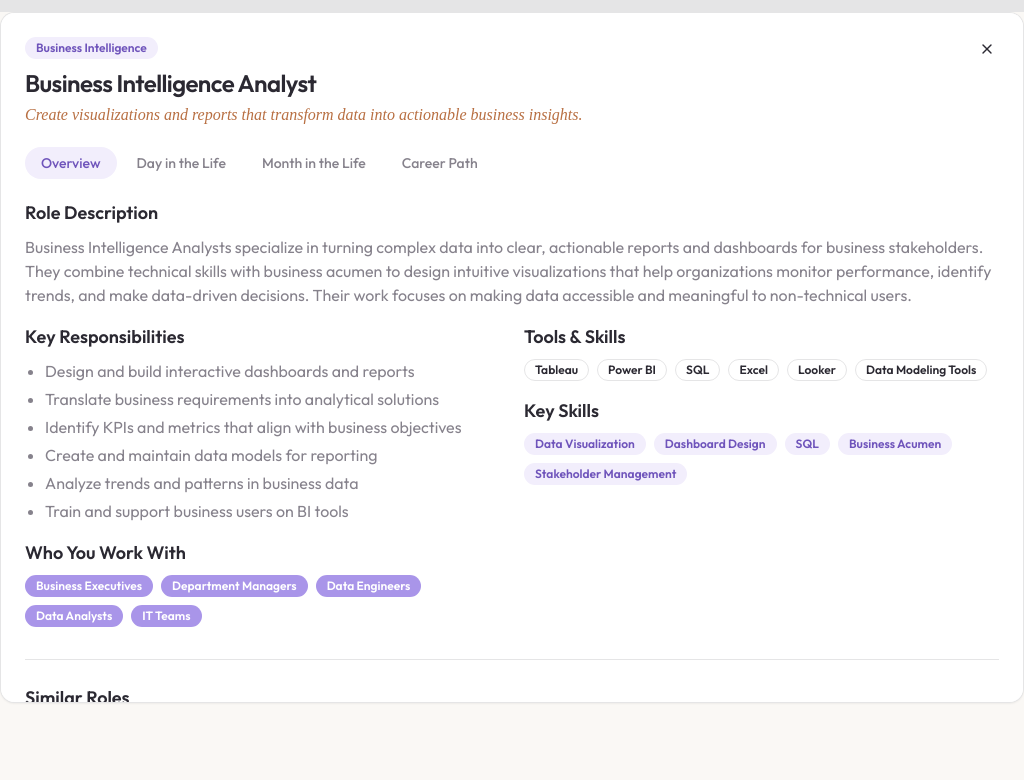
Test: CareerRoleDetails › shows the section under every tab, not only Overview
Check: the heading "Similar Roles" is shown, box [25,686,130,703]
What coordinates should you click on to do the following:
click the tab "Career Path"
I would click on:
 (440, 163)
Its box is [386,147,494,179].
(page scrolled)
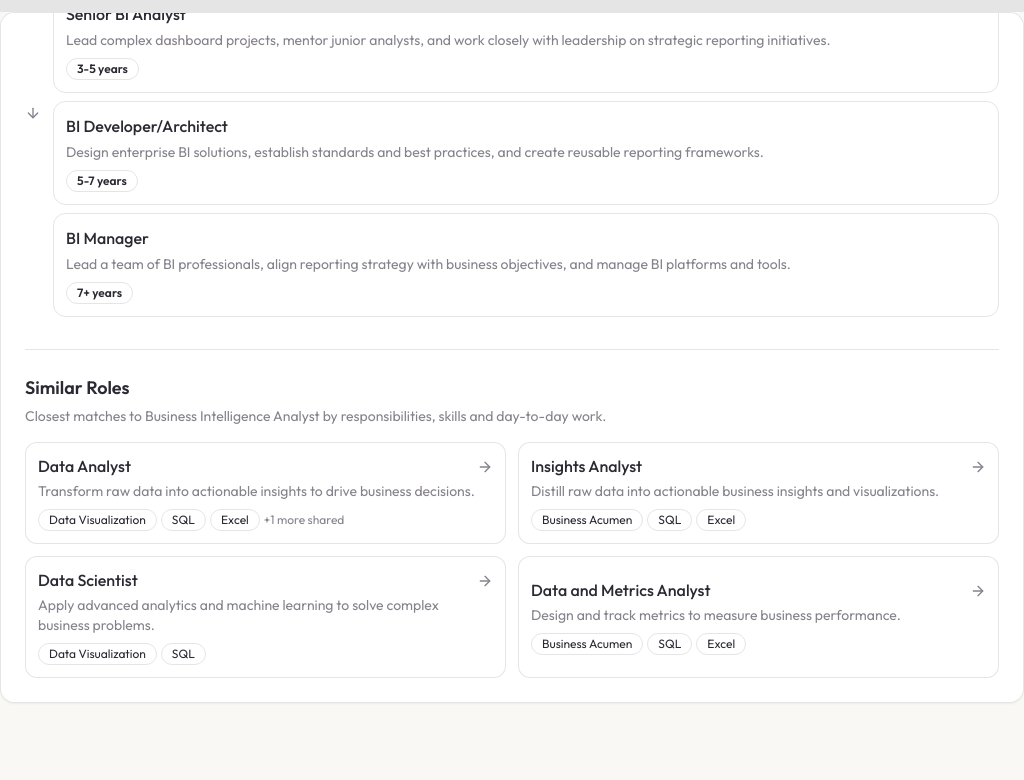
Check: the heading "Similar Roles" is shown, box [25,376,130,399]
Check: the number of buttons with test id "similar-role" is 4, box [25,442,506,544]; [518,442,999,544]; [25,556,506,678]; [518,556,999,678]
